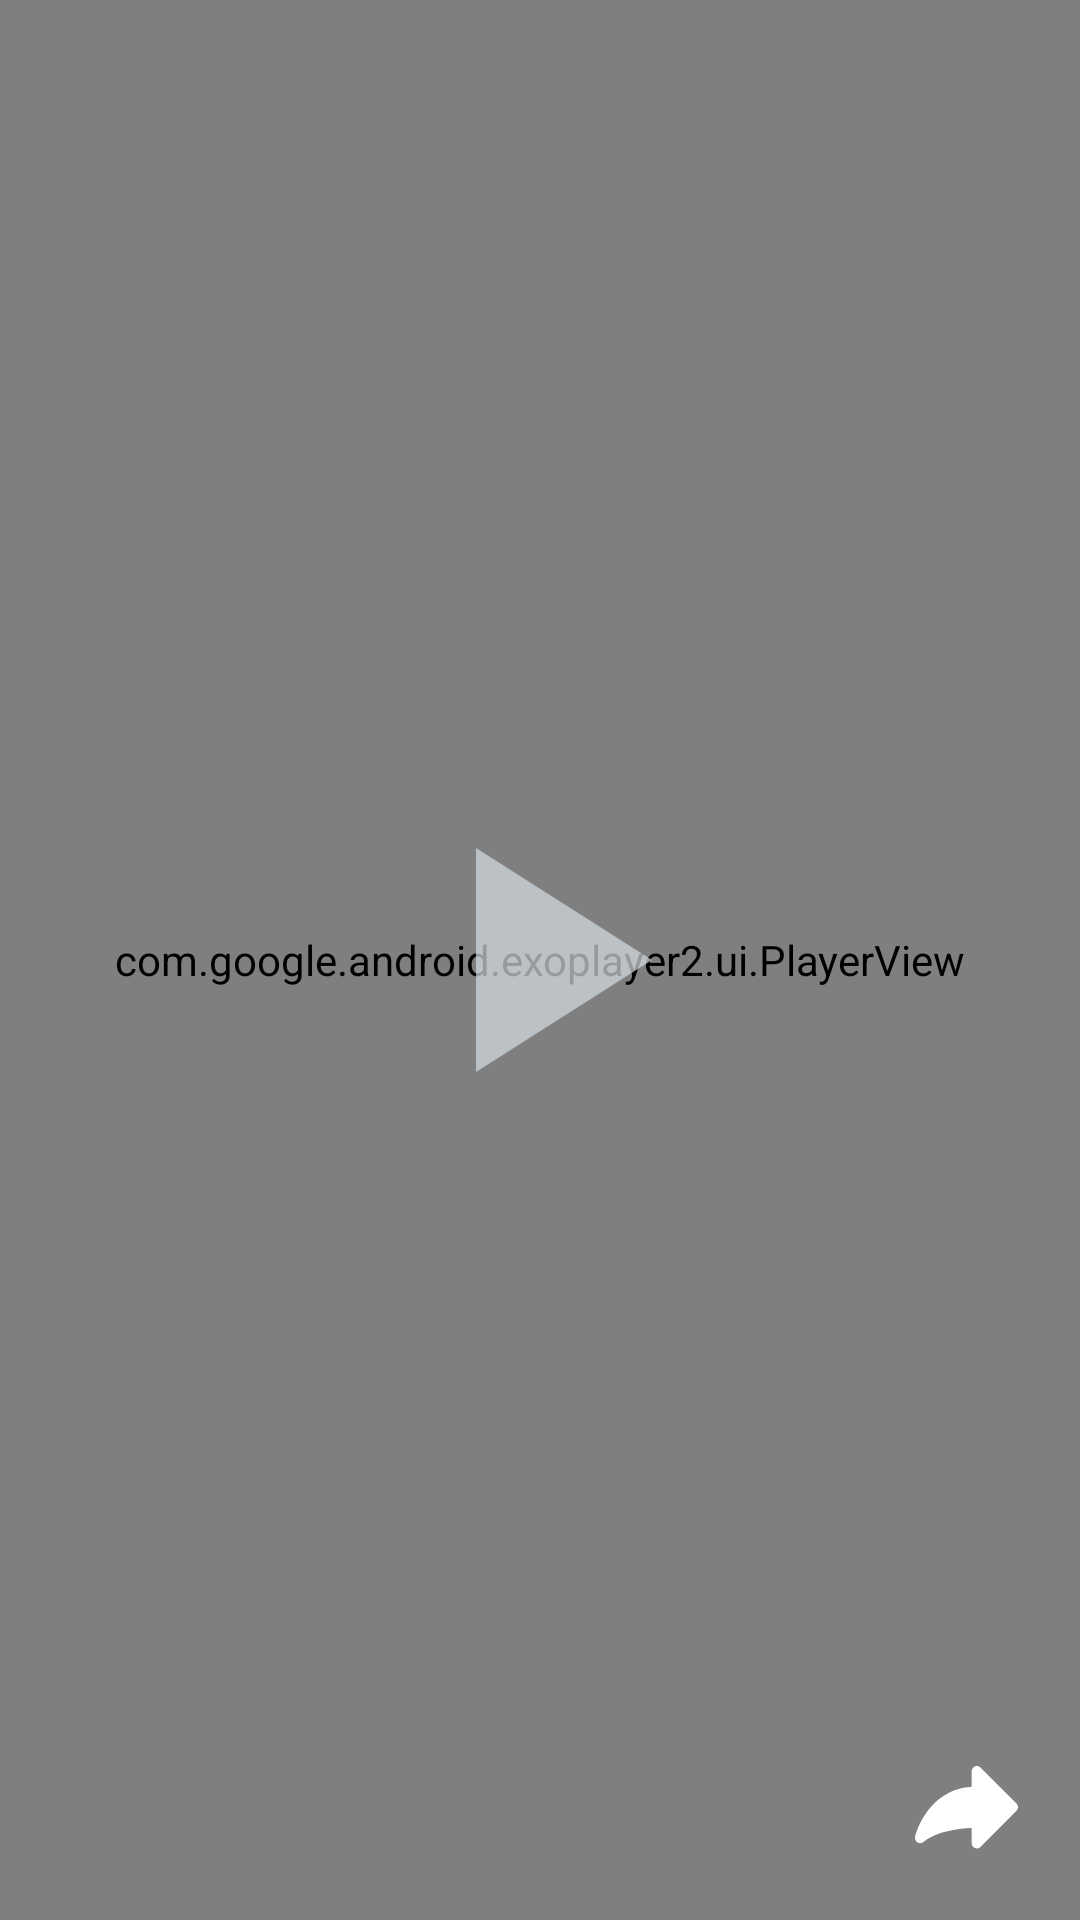

Point at icon controls on the screen. Image size 1080w x 1920h, points as (x=x, y=y).
share: (x=966, y=1807)
